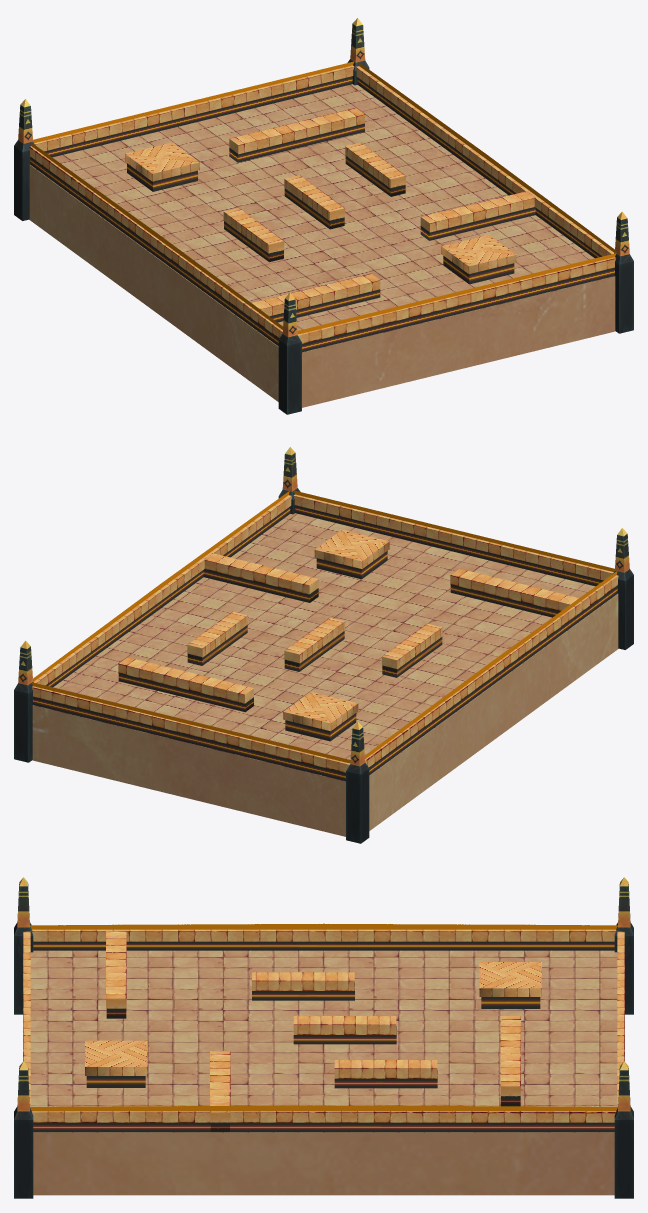
File: Battle_Stage 9.fbx
The picture shows the model from 3 angles, top to bottom: view 1: azimuth 30°, elevation 25°; view 2: azimuth 150°, elevation 25°; view 3: azimuth 270°, elevation 25°; orthographic projection. The views are drawn at different scales.
Parts seen in each view (by area): view 1: CR_Platform_Cube.025, CR_Platform_Cube.028, Cube.106, Plane.164; view 2: CR_Platform_Cube.025, CR_Platform_Cube.028, Cube.106, Plane.164; view 3: CR_Platform_Cube.025, CR_Platform_Cube.028, Cube.106, Plane.164.
Part boxes in pixels (x1,y1,x2,y2): CR_Platform_Cube.025: (29,84,615,407); CR_Platform_Cube.028: (29,65,616,352); Cube.106: (14,18,633,414); Plane.164: (30,61,616,334); CR_Platform_Cube.025: (32,513,618,836); CR_Platform_Cube.028: (31,494,618,781); Cube.106: (14,447,633,843); Plane.164: (31,490,617,763); CR_Platform_Cube.025: (23,950,624,1195); CR_Platform_Cube.028: (23,929,624,1132); Cube.106: (14,877,633,1198); Plane.164: (30,923,617,1111).
Bounding box in the file's own units: 6570 × 2229 × 8958.
